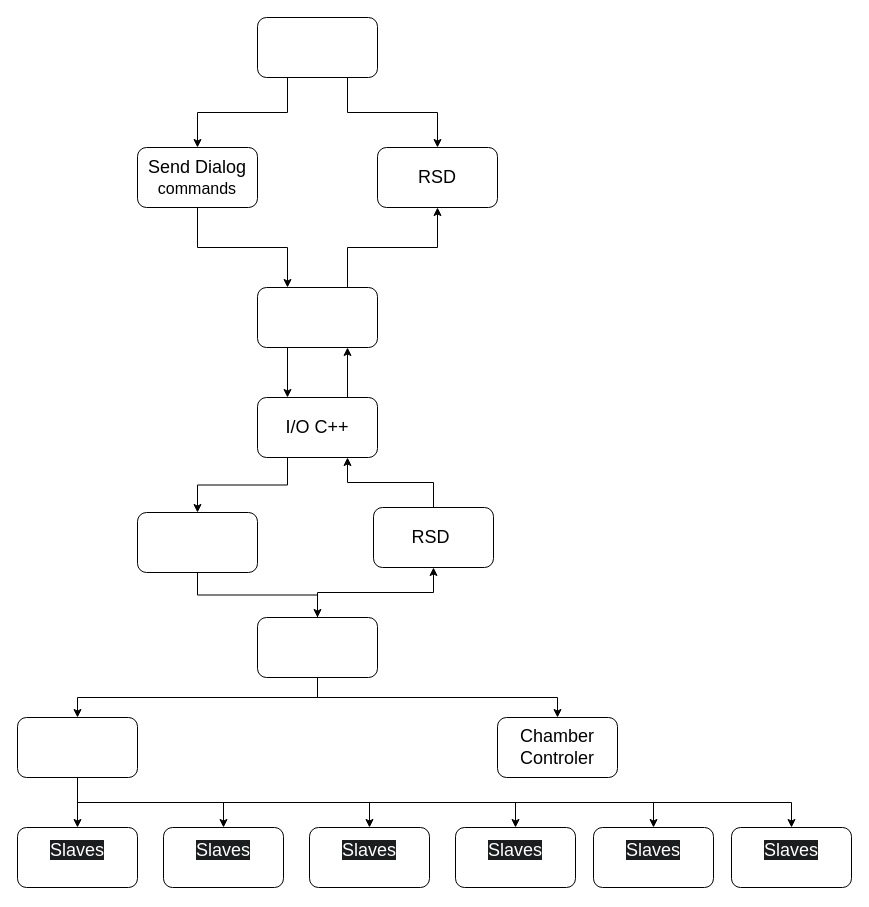
This 869x907 diagram has some shape labels left out. Here are the shapes that lost their labels. From the top down, the centre of each, then its label:
At [317,47]: "GUI-HTML5".
At [317,317]: "Main Pc".
At [197,542]: "Python IK".
At [317,647]: "SEND Code C++".
At [77,747]: "Main Controler".
